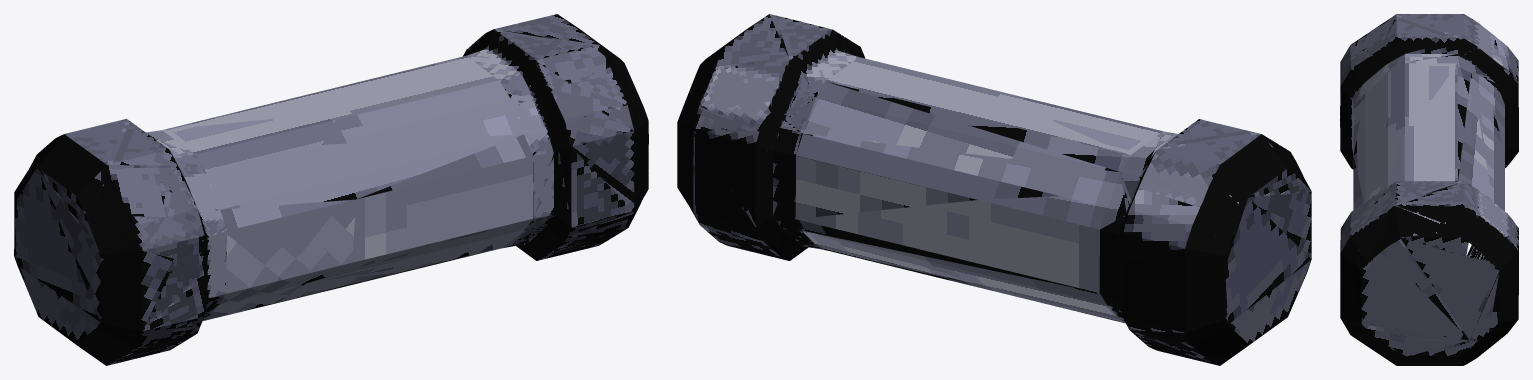
3 views of the same model, side by side, from view 1: azimuth 30°, elevation 25°; view 2: azimuth 150°, elevation 25°; view 3: azimuth 270°, elevation 25° (orthographic). The views are drawn at different scales.
Visible parts, largest first — view 1: OBJ088; view 2: OBJ088; view 3: OBJ088.
Boxes of the visible parts, x1,y1,x2,y2 form: OBJ088: [14, 14, 648, 365]; OBJ088: [677, 14, 1311, 365]; OBJ088: [1340, 14, 1518, 365].
Bounding box in the file's own units: 0.3425 × 0.1201 × 0.1212.
Materials: 1 (1 with a texture image).
